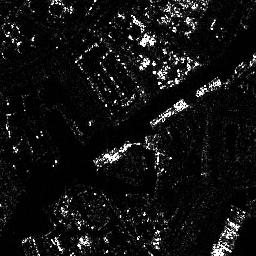ship: (195, 75, 222, 97)
